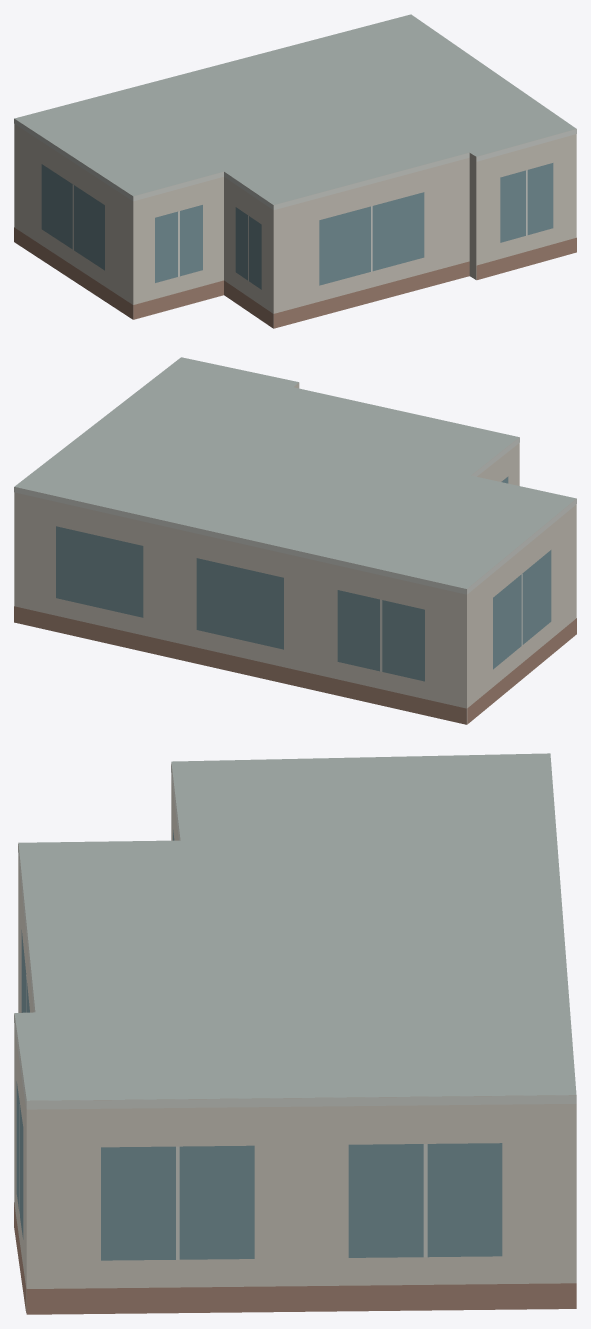
The model's file is survey-upis-32637761.glb.
The picture shows the model from 3 angles, top to bottom: view 1: azimuth 30°, elevation 25°; view 2: azimuth 150°, elevation 25°; view 3: azimuth 270°, elevation 25°; orthographic projection. The views are drawn at different scales.
Parts seen in each view (by area): view 1: survey-upis-32637761.tmp; view 2: survey-upis-32637761.tmp; view 3: survey-upis-32637761.tmp.
Part boxes in pixels (bbox=[...]): survey-upis-32637761.tmp: bbox=[14, 14, 576, 328]; survey-upis-32637761.tmp: bbox=[14, 357, 576, 724]; survey-upis-32637761.tmp: bbox=[14, 753, 576, 1314].
Bounding box in the file's own units: 10.65 × 3.05 × 7.28.
